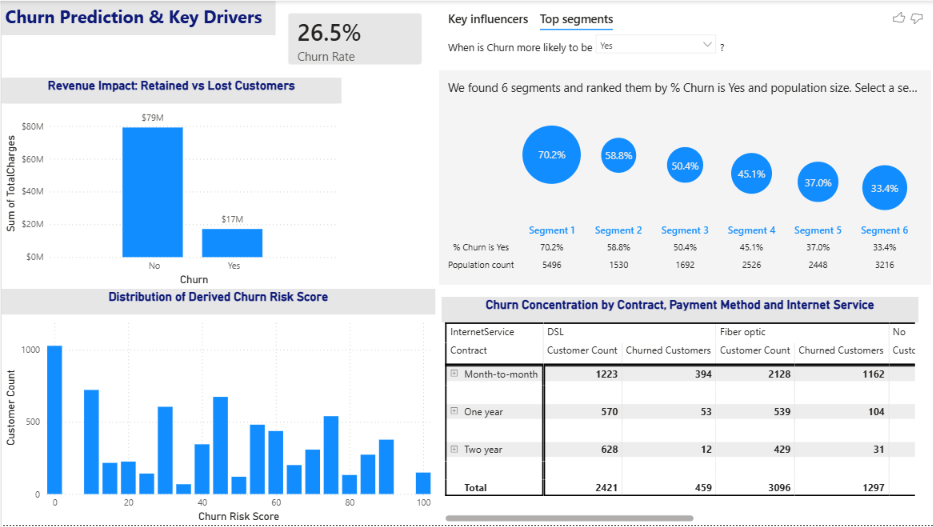

Layout of this report page (visuals, bound fields, positions):
{"tool":"powerbi","page":{"name":"Churn  Prediction & Key Drivers","canvas":[1280,720],"ordinal":3},"visuals":[{"type":"textbox","box":[0,0,384.7,47.5],"z":0},{"type":"cardVisual","fields":{"Data":["Telcom-Customer-Churn.Churn Rate"]},"box":[376.3,0,218.6,105.1],"z":1},{"type":"keyDriversVisual","fields":{"Target":["Telcom-Customer-Churn.Churn"],"ExplainBy":["Telcom-Customer-Churn.Contract","Telcom-Customer-Churn.InternetService","Telcom-Customer-Churn.PaymentMethod","Telcom-Customer-Churn.Tenure Range","Telcom-Customer-Churn.PaperlessBilling","Telcom-Customer-Churn.Senior Citizen Status"]},"box":[594.9,0,684.7,394.9],"z":2},{"type":"clusteredColumnChart","title":"Revenue Impact: Retained vs Lost Customers","fields":{"Category":["Telcom-Customer-Churn.Churn"],"Y":["Sum(Telcom-Customer-Churn.TotalCharges)"]},"box":[0,105.1,466.1,289.8],"z":3},{"type":"clusteredColumnChart","title":"Distribution of Derived Churn Risk Score","fields":{"Category":["Telcom-Customer-Churn.Churn Risk Score"],"Y":["Telcom-Customer-Churn.Customer Count"]},"box":[0,394.9,594.9,325.4],"z":4},{"type":"pivotTable","title":"Churn Concentration by Contract, Payment Method and Internet Service","fields":{"Rows":["Telcom-Customer-Churn.Contract","Telcom-Customer-Churn.PaymentMethod"],"Columns":["Telcom-Customer-Churn.InternetService"],"Values":["Telcom-Customer-Churn.Customer Count","Telcom-Customer-Churn.Churned Customers"]},"box":[603.4,406.8,654.2,313.6],"z":5}]}

Visuals, with their boxes in screenshot pixels (x1, y1, x2, y2), scaled from the page's 1280x720 canvas onto the 933x527 screenshot:
textbox: l=0, t=0, r=280, b=35
cardVisual - Telcom-Customer-Churn.Churn Rate: l=274, t=0, r=434, b=77
keyDriversVisual - Telcom-Customer-Churn.Churn x Telcom-Customer-Churn.Contract: l=434, t=0, r=932, b=289
"Revenue Impact: Retained vs Lost Customers" clusteredColumnChart: l=0, t=77, r=340, b=289
"Distribution of Derived Churn Risk Score" clusteredColumnChart: l=0, t=289, r=434, b=526
"Churn Concentration by Contract, Payment Method and Internet Service" pivotTable: l=440, t=298, r=917, b=526
